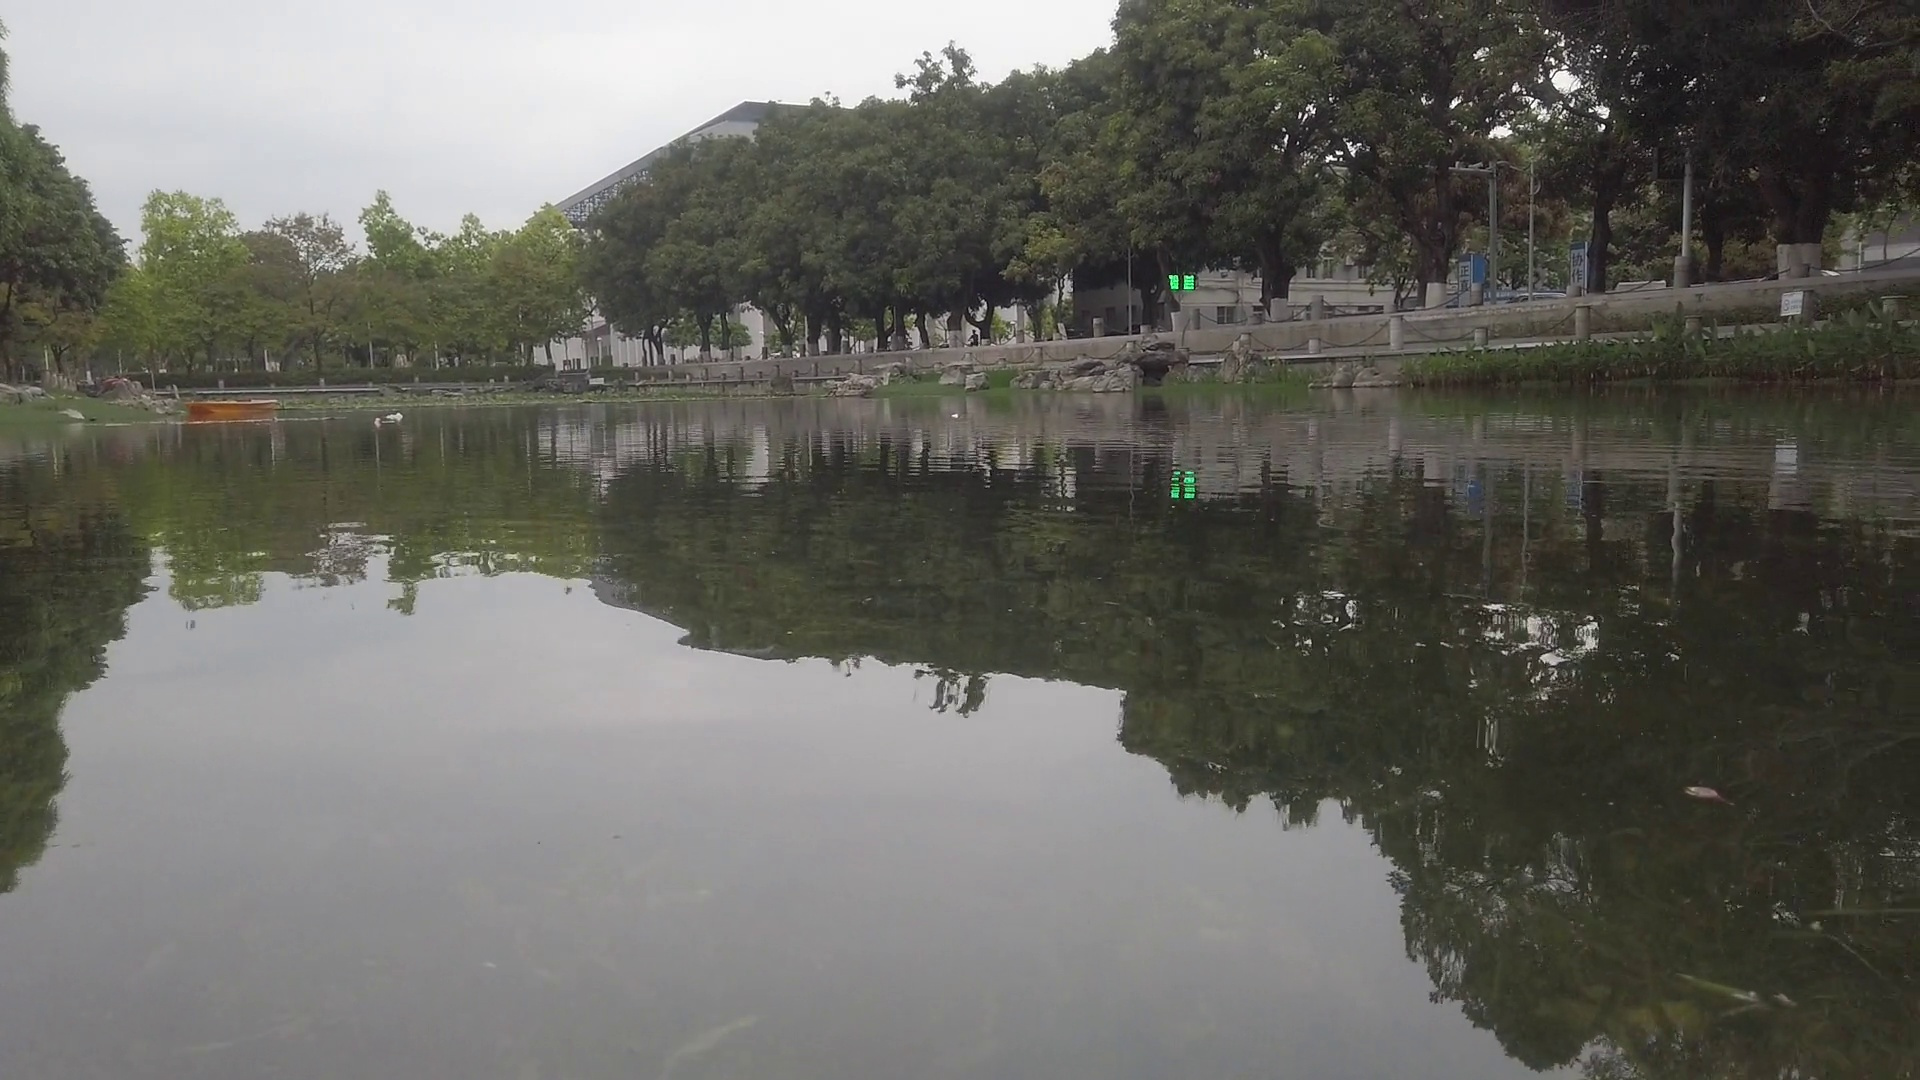paper: (945, 409, 964, 422)
plastic: (382, 413, 404, 421)
